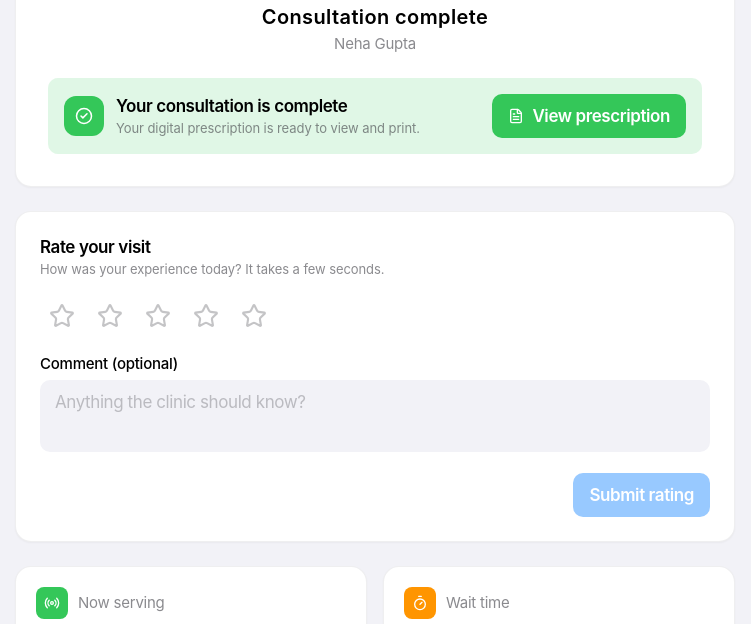
Test: PatientQueueTracker › shows an error when the rating cannot be saved
(page scrolled)
Expected: the heading "Rate your visit" is shown, [40,237,150,257]
Click the radio button named "5 stars, Excellent". click: coordinates (254, 316)
box: [232,294,276,338]
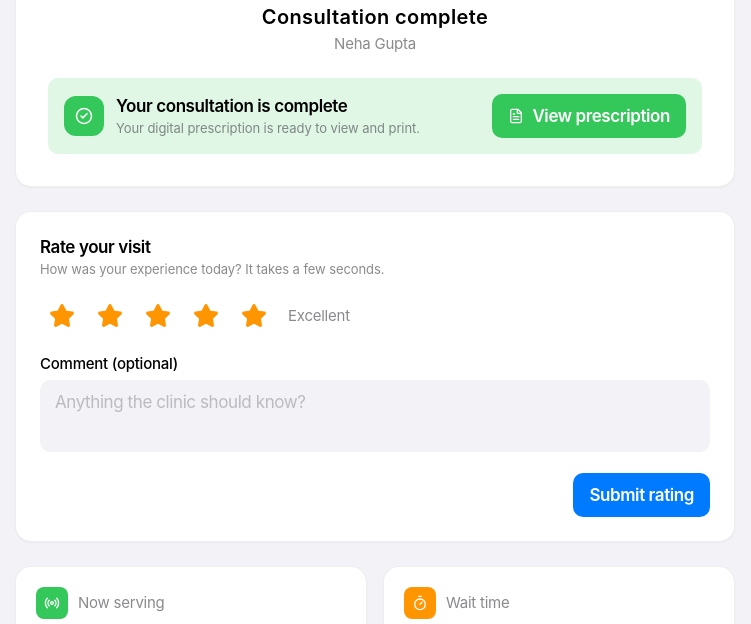
Click the button "Submit rating". click: coordinates (642, 495)
box: [573,473,710,517]
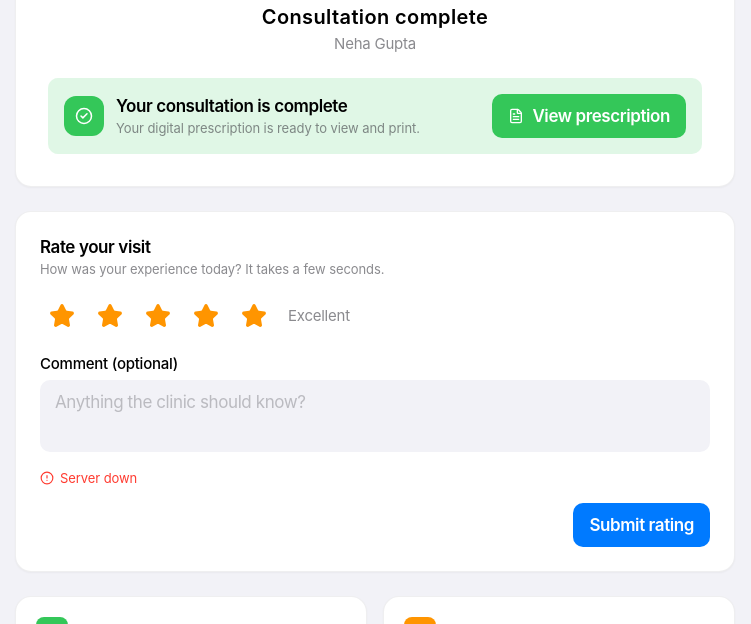
Expected: the text "Server down" is shown, [40,470,137,486]
